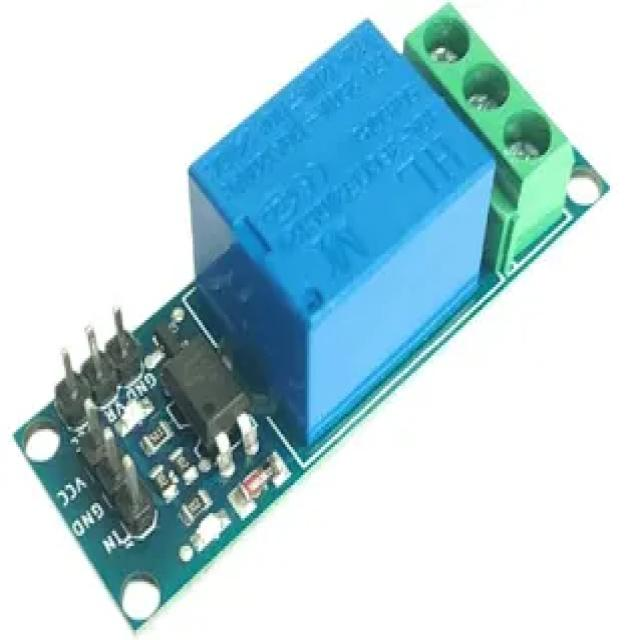Relay: (184, 8, 588, 442), (404, 4, 579, 268)
